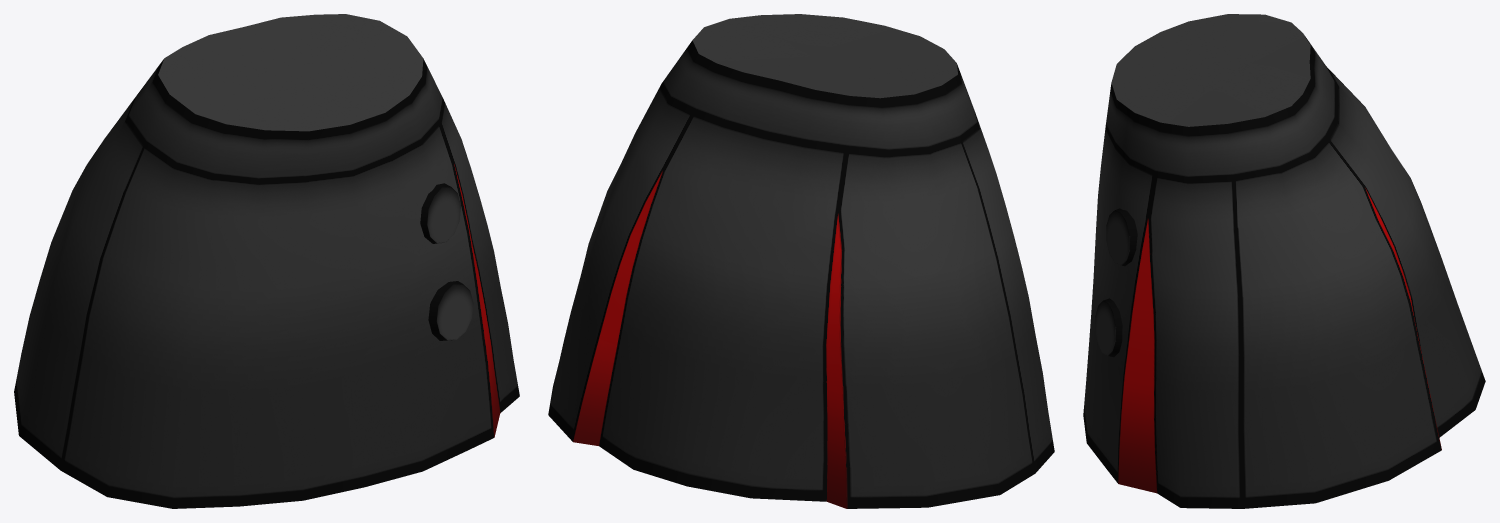
The model's file is F_Lower_duanqun_01_he.glb.
3 renders of one model, left to right at view 1: azimuth 30°, elevation 25°; view 2: azimuth 150°, elevation 25°; view 3: azimuth 270°, elevation 25°, orthographic. The views are drawn at different scales.
Visible parts, largest first — view 1: F_Lower_duanqun_01_he; view 2: F_Lower_duanqun_01_he; view 3: F_Lower_duanqun_01_he.
Boxes of the visible parts, x1=… form: F_Lower_duanqun_01_he: x1=14, y1=14, x2=519, y2=508; F_Lower_duanqun_01_he: x1=548, y1=14, x2=1054, y2=508; F_Lower_duanqun_01_he: x1=1083, y1=14, x2=1485, y2=508.
Bounding box in the file's own units: 0.3458 × 0.2763 × 0.2848.
1 material, 1 textured.
